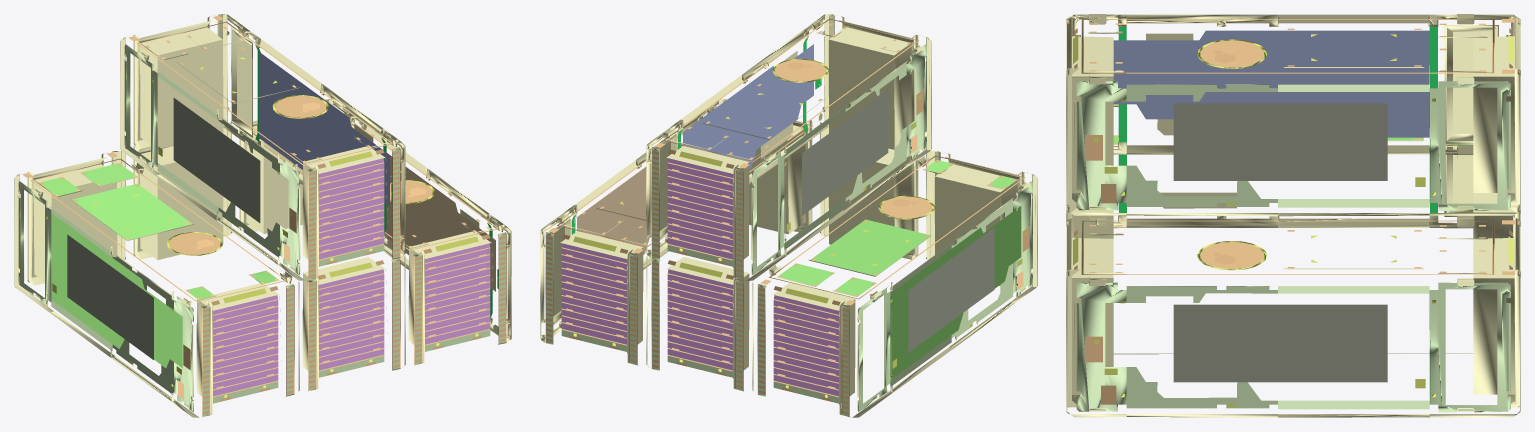
File: storage_container_stack_3_a_lod1.glb
3 renders of one model, left to right at view 1: azimuth 30°, elevation 25°; view 2: azimuth 150°, elevation 25°; view 3: azimuth 270°, elevation 25°, orthographic. The views are drawn at different scales.
Size of the model in its own units: 7.52 by 5.03 by 7.49.
